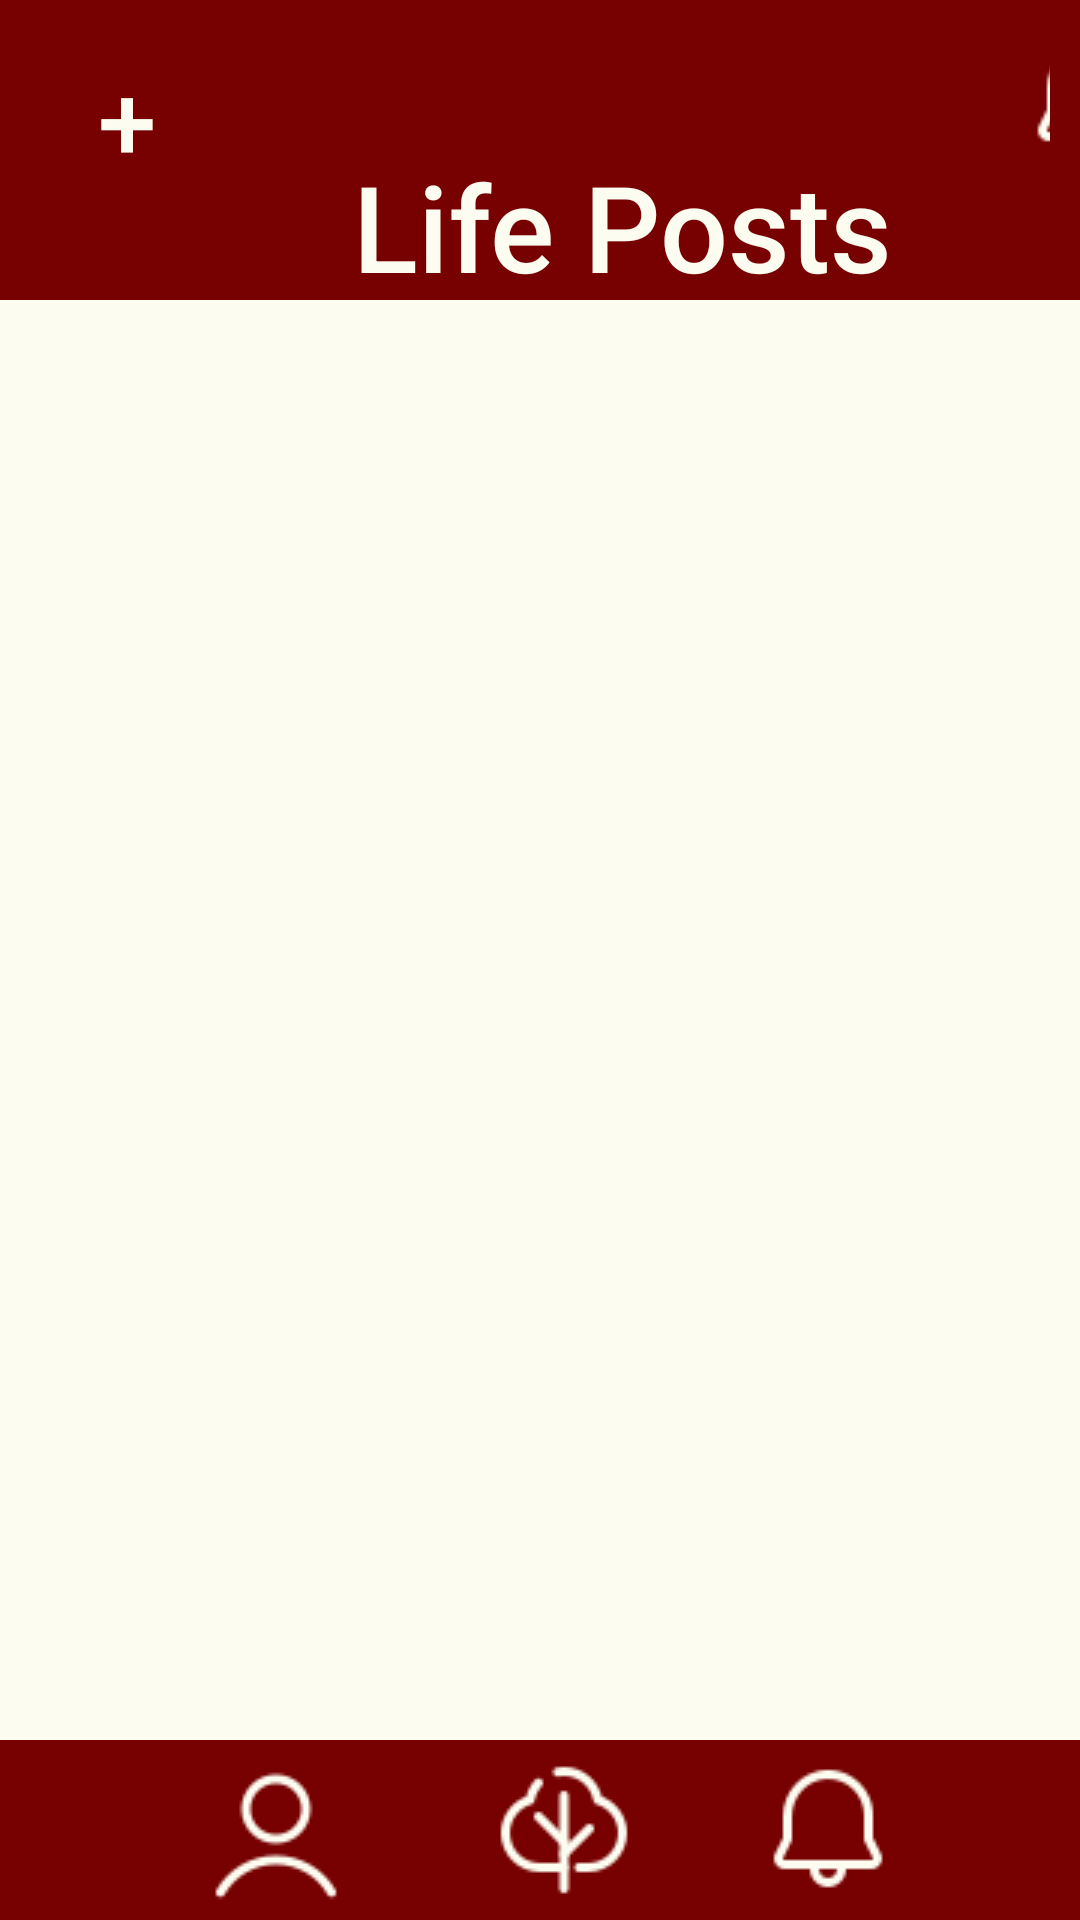

Where to tap for icons on this 1080 x 1920 app screen, as (x,y):
bell: (828,1828)
profile: (276,1835)
tree: (564,1830)
